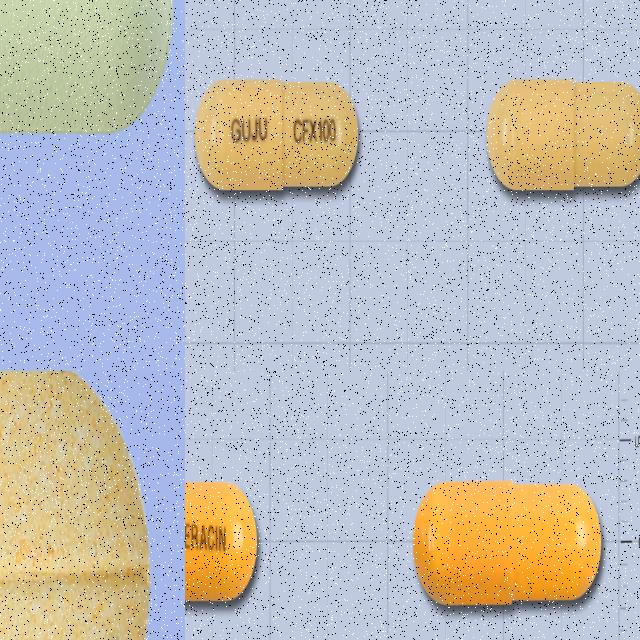A Progen Clarithromycin Tab: (0, 0, 173, 133)
Cefsin Cap: (191, 72, 363, 199), (483, 77, 640, 198)
Ceracin Cap: (411, 474, 608, 618), (185, 470, 262, 615)
Doxiendi: (0, 371, 152, 640)
